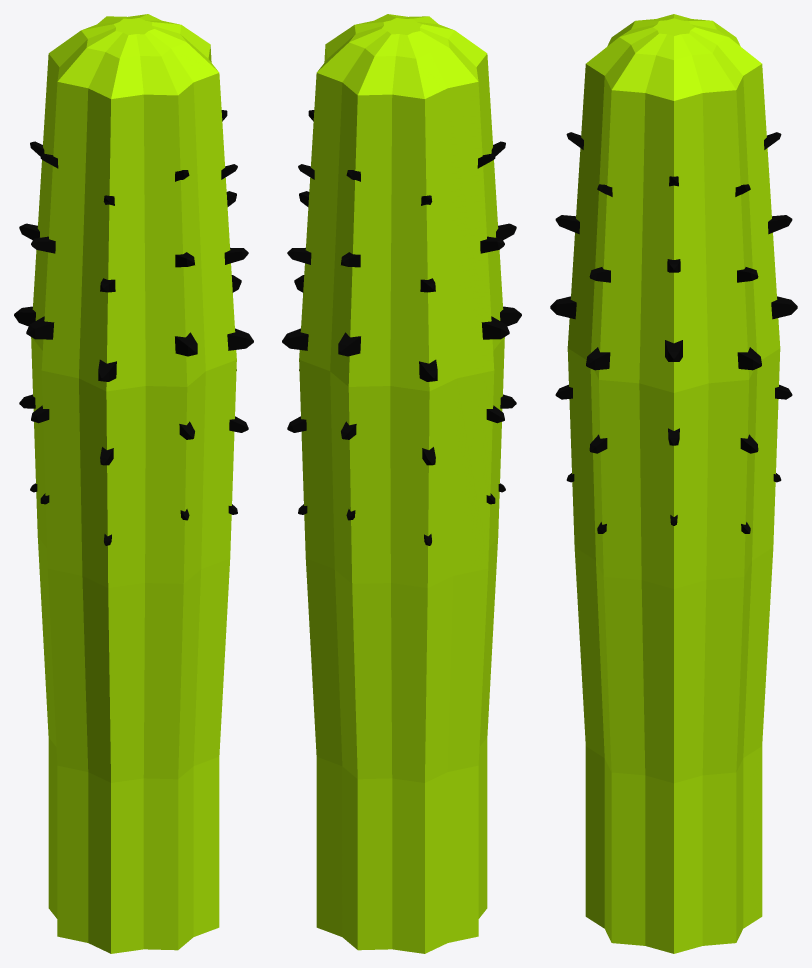
Rendered from Cardon05_00Brazos_Sin_Flor.fbx.
3 renders of one model, left to right at view 1: azimuth 30°, elevation 25°; view 2: azimuth 150°, elevation 25°; view 3: azimuth 270°, elevation 25°, orthographic.
Parts seen in each view (by area): view 1: Cactus, Espinas; view 2: Cactus, Espinas; view 3: Cactus, Espinas.
Boxes of the visible parts, left/top/right/bottom form: Cactus: left=31, top=14, right=236, bottom=953; Espinas: left=14, top=110, right=253, bottom=545; Cactus: left=299, top=14, right=504, bottom=953; Espinas: left=282, top=110, right=521, bottom=545; Cactus: left=567, top=14, right=780, bottom=953; Espinas: left=550, top=132, right=797, bottom=533.
Bounding box in the file's own units: 53.18 × 211 × 53.18.
